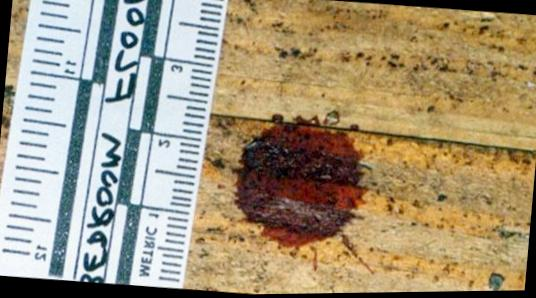Fire: (231, 112, 373, 272)
